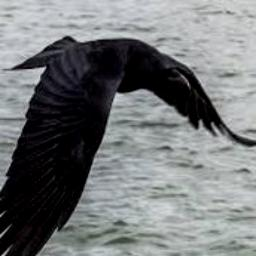Crow: (0, 33, 256, 256)
